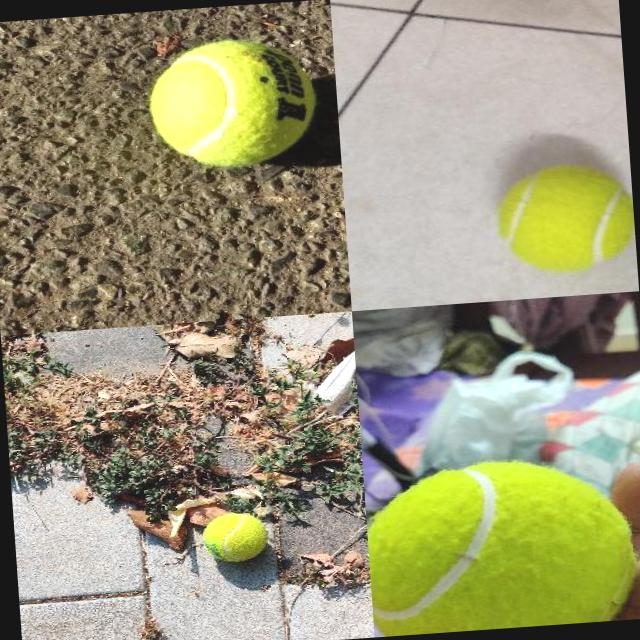tennis-ball: (362, 449, 640, 636), (144, 34, 322, 174), (494, 159, 636, 276), (202, 510, 268, 562)
